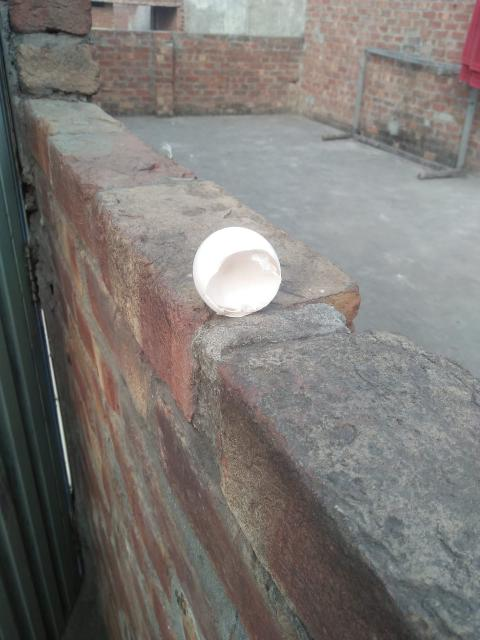Roto: (193, 226, 282, 318)
